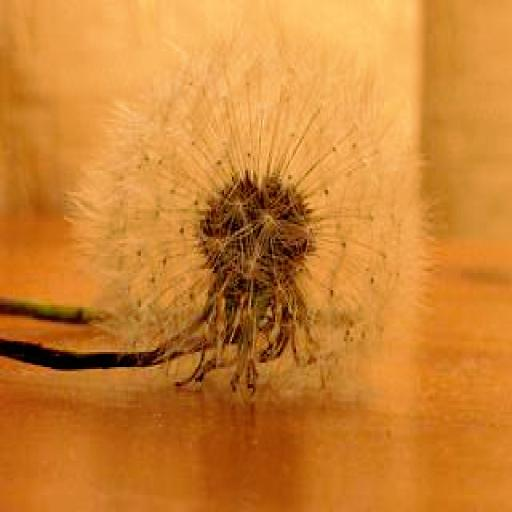dandelion: (72, 19, 435, 414)
